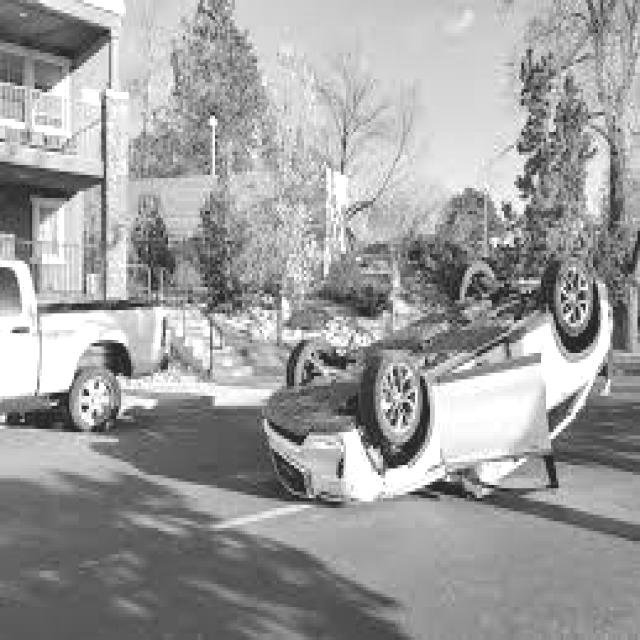accident: (257, 255, 617, 511)
